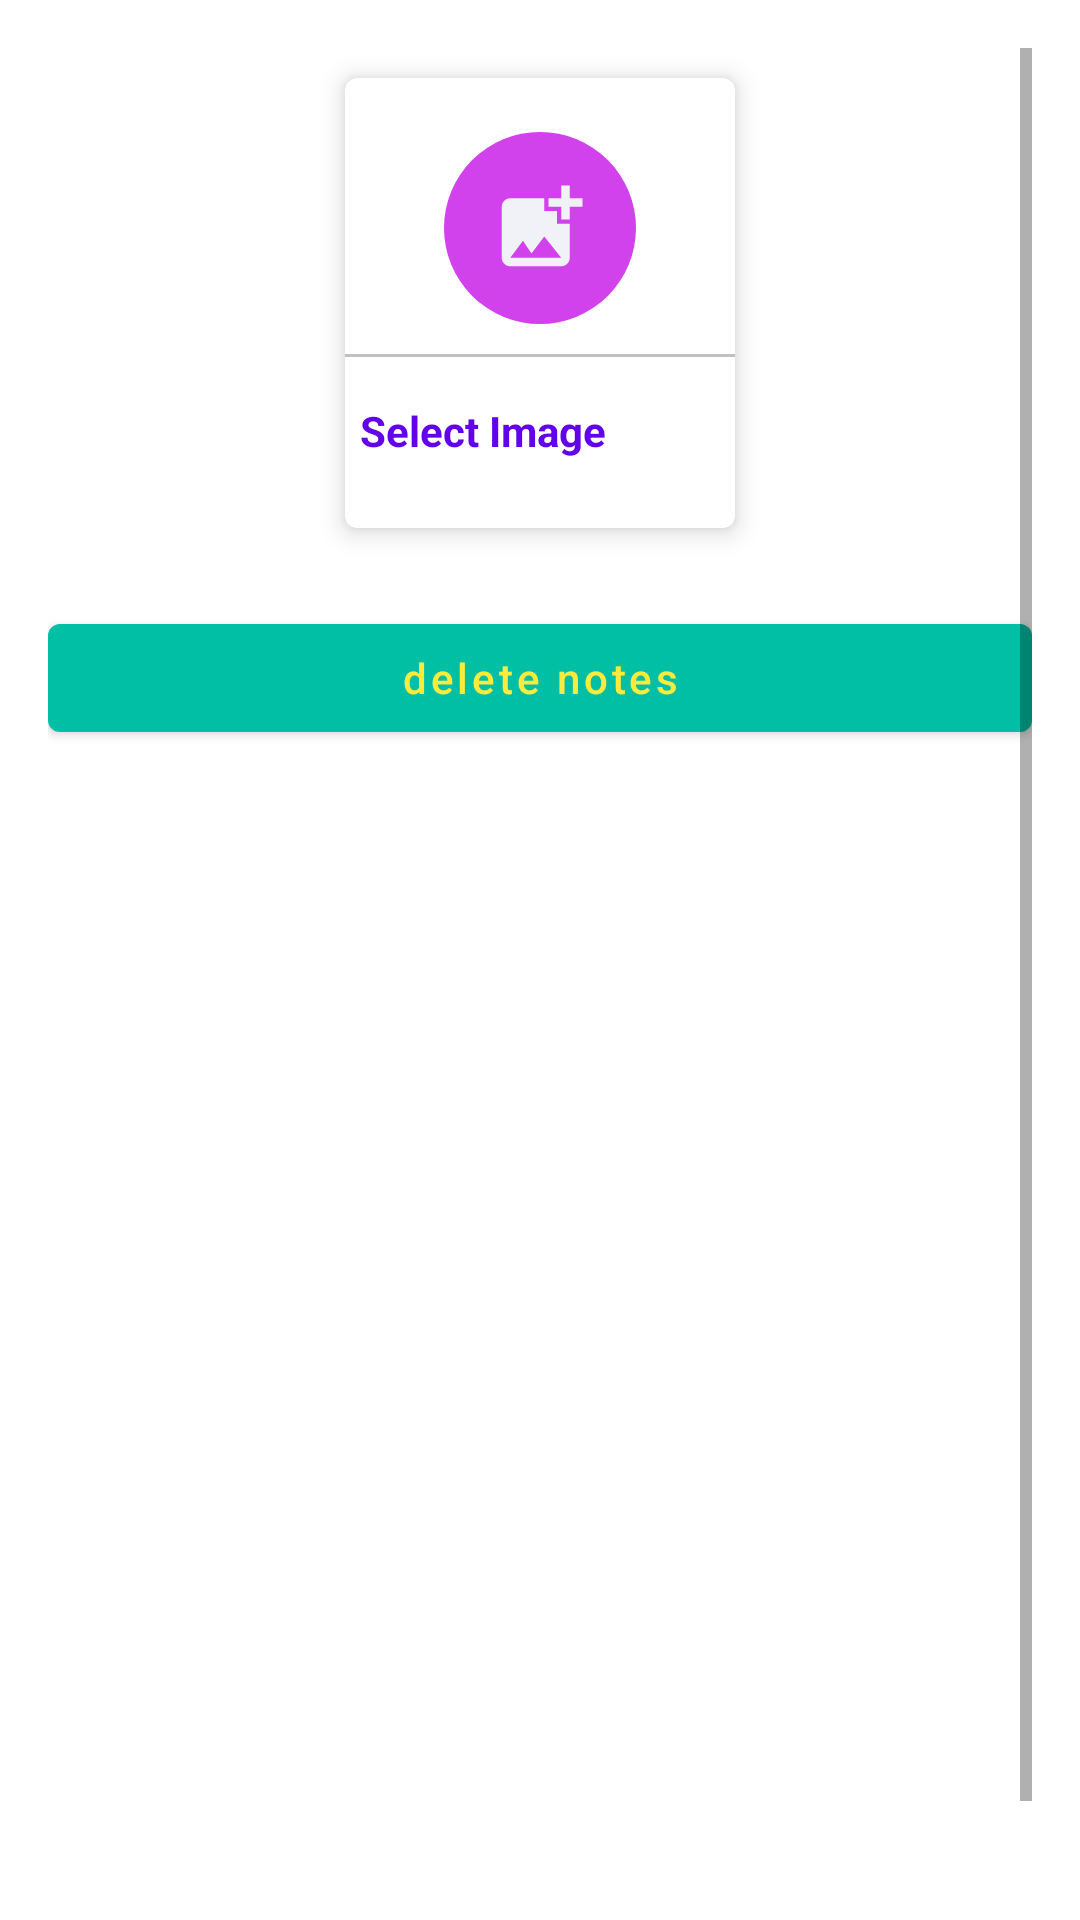

Screen size 1080 × 1920. Icon name, then its center in pixels as point (x, y):
addimage: point (540, 228)
